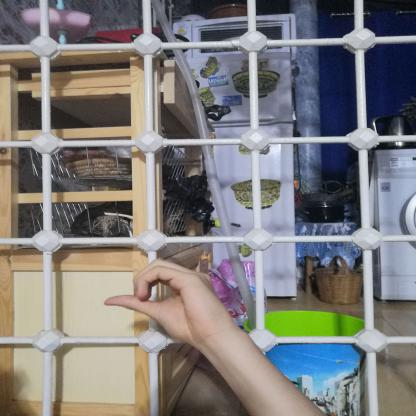WAW: (92, 253, 237, 349)
